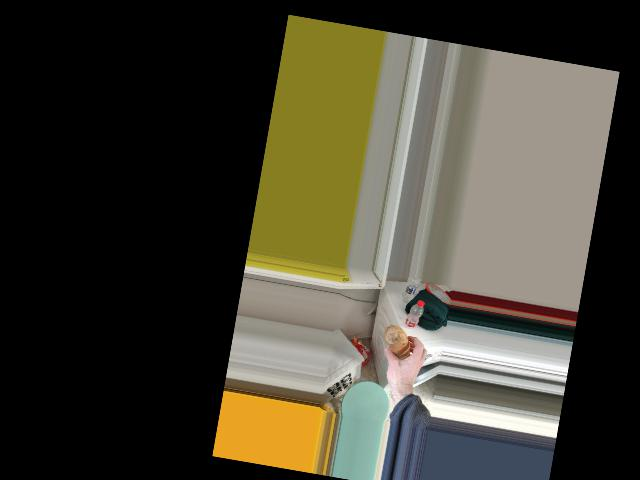sweet_potato: (381, 323, 413, 361)
